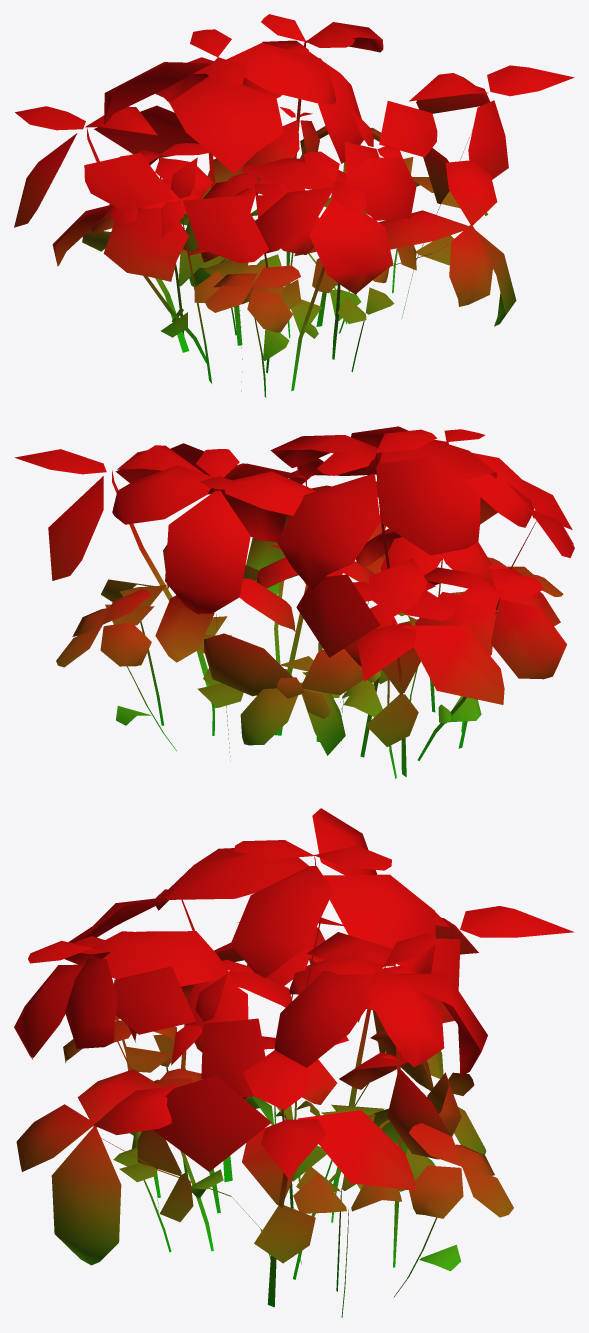
Rendered from Basil_LOD4_Var7_vgpochzia.fbx.
The picture shows the model from 3 angles, top to bottom: view 1: azimuth 30°, elevation 25°; view 2: azimuth 150°, elevation 25°; view 3: azimuth 270°, elevation 25°; orthographic projection. The views are drawn at different scales.
Visible parts, largest first — view 1: _mxda_Var7_LOD4; view 2: _mxda_Var7_LOD4; view 3: _mxda_Var7_LOD4.
Part boxes in pixels (<box>): _mxda_Var7_LOD4: <box>14,14,574,397</box>; _mxda_Var7_LOD4: <box>15,426,574,778</box>; _mxda_Var7_LOD4: <box>14,808,574,1317</box>.
Bounding box in the file's own units: 31.97 × 17.74 × 24.78.
